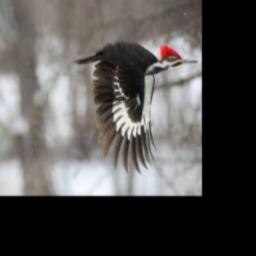Woodpecker: (73, 42, 199, 172)
